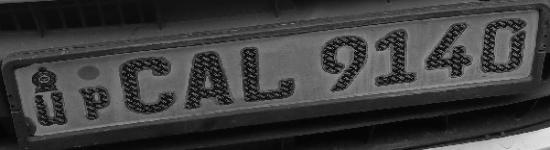0: (477, 14, 531, 78)
1: (372, 26, 422, 90)
4: (424, 19, 478, 84)
9: (314, 30, 371, 96)
A: (183, 48, 234, 111)
C: (116, 53, 176, 117)
L: (239, 43, 299, 106)
P: (75, 83, 113, 123)
U: (33, 90, 72, 127)
